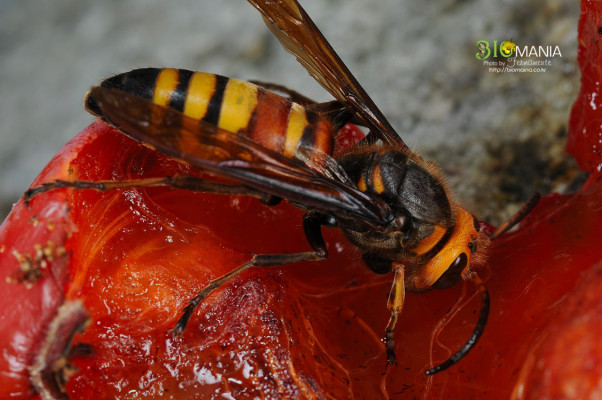asian_giant_hornet: (22, 56, 516, 363)
